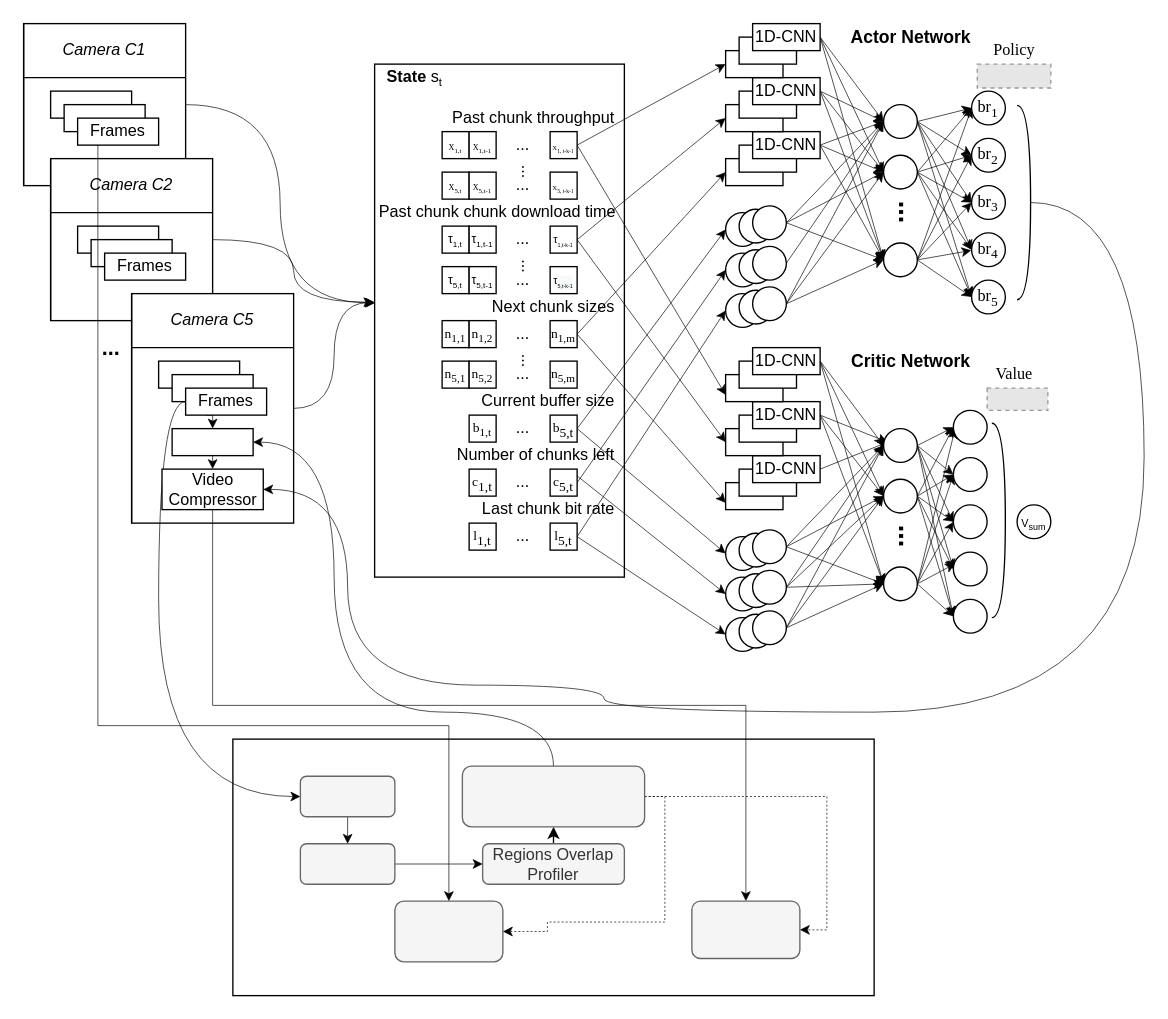
Image size: 1168x1019. Some labels were removed from this diagram. Grey dashed boxes stand in for pictures. Each missing label, with the centre of its shape:
Optimal masks Configure Generator: (x=553, y=796)
Perception inference thread 1: (x=448, y=931)
Perception inference thread 5: (x=745, y=929)
Raw ReID Filters: (x=347, y=863)
ReID Module: (x=347, y=796)
ROI mask: (x=212, y=441)
